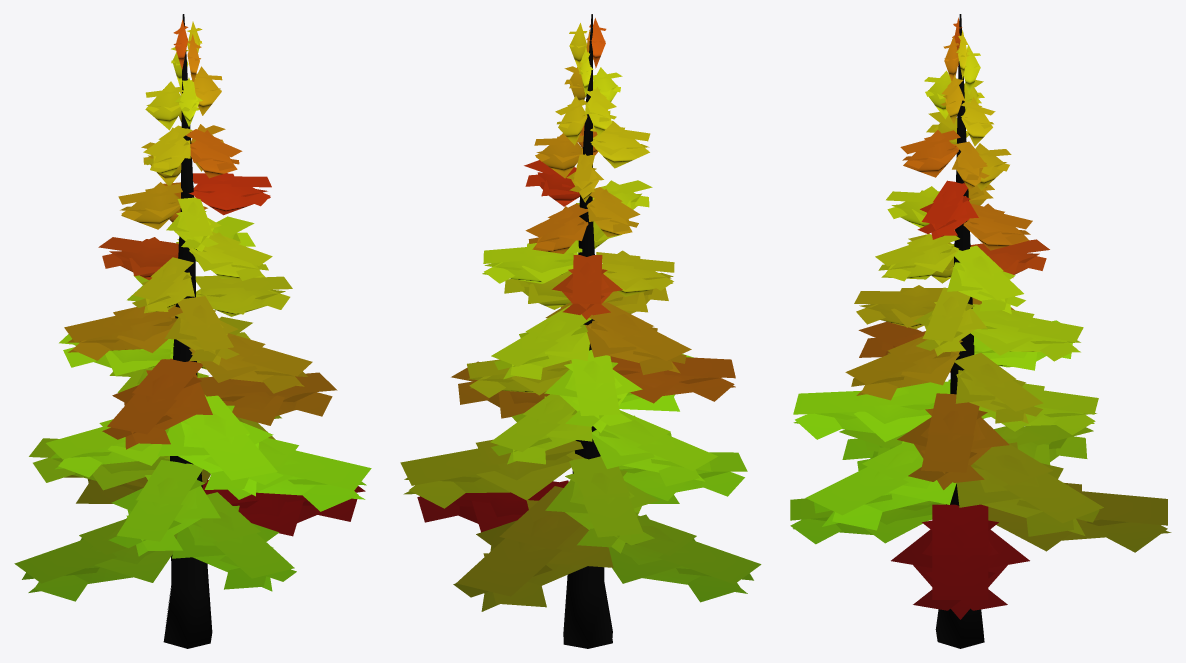
File: tree_conifer_lod1.glb
The picture shows the model from 3 angles, left to right: view 1: azimuth 30°, elevation 25°; view 2: azimuth 150°, elevation 25°; view 3: azimuth 270°, elevation 25°; orthographic projection.
Parts seen in each view (by area): view 1: foliage_drooping_pine_sprays, foliage_full_pine_branch_pads, bark_pine_trunk; view 2: foliage_drooping_pine_sprays, foliage_full_pine_branch_pads, bark_pine_trunk; view 3: foliage_drooping_pine_sprays, foliage_full_pine_branch_pads, bark_pine_trunk.
Boxes of the visible parts, <box> form: foliage_drooping_pine_sprays: <box>14,26,371,601</box>; foliage_full_pine_branch_pads: <box>28,19,365,592</box>; bark_pine_trunk: <box>163,14,212,648</box>; foliage_drooping_pine_sprays: <box>400,25,761,607</box>; foliage_full_pine_branch_pads: <box>403,18,747,611</box>; bark_pine_trunk: <box>563,14,612,648</box>; foliage_drooping_pine_sprays: <box>790,23,1167,610</box>; foliage_full_pine_branch_pads: <box>793,17,1171,619</box>; bark_pine_trunk: <box>935,14,984,648</box>.
Bounding box in the file's own units: 3.11 × 5.71 × 3.18.
